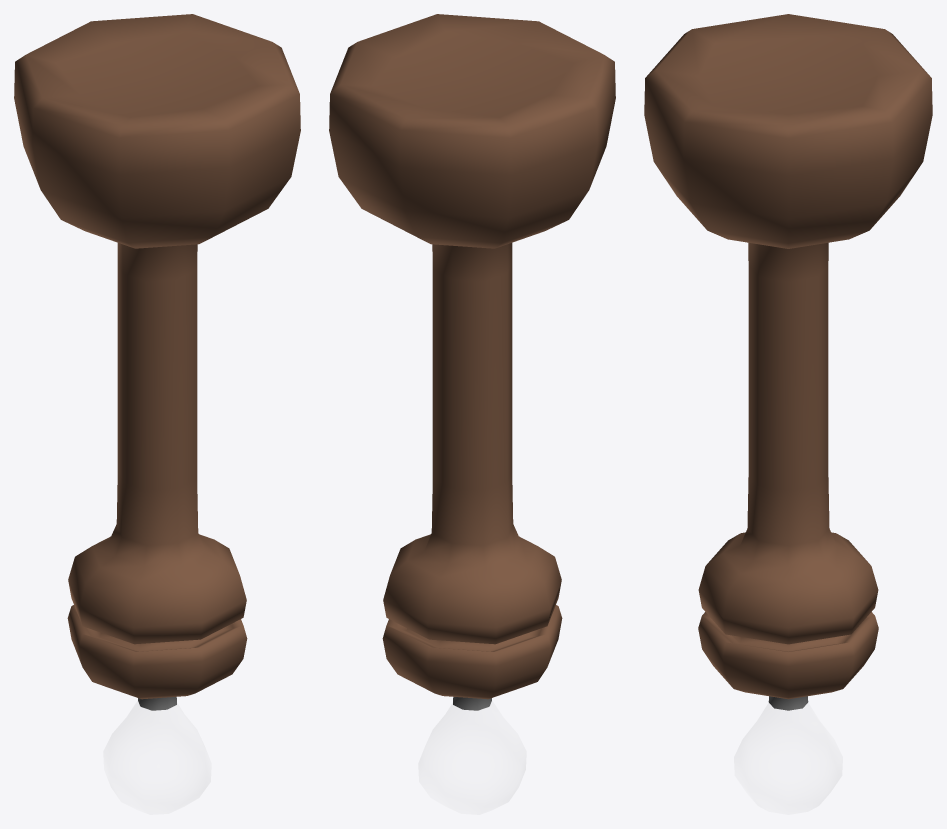
File: Fan_Static.fbx
3 renders of one model, left to right at view 1: azimuth 30°, elevation 25°; view 2: azimuth 150°, elevation 25°; view 3: azimuth 270°, elevation 25°, orthographic.
Visible parts, largest first — view 1: Ventilator_Body; view 2: Ventilator_Body; view 3: Ventilator_Body.
Boxes of the visible parts, <box> form: Ventilator_Body: <box>14,14,300,710</box>; Ventilator_Body: <box>329,14,615,710</box>; Ventilator_Body: <box>644,14,932,710</box>.
Size of the model in its own units: 26.95 by 76.24 by 26.95.
